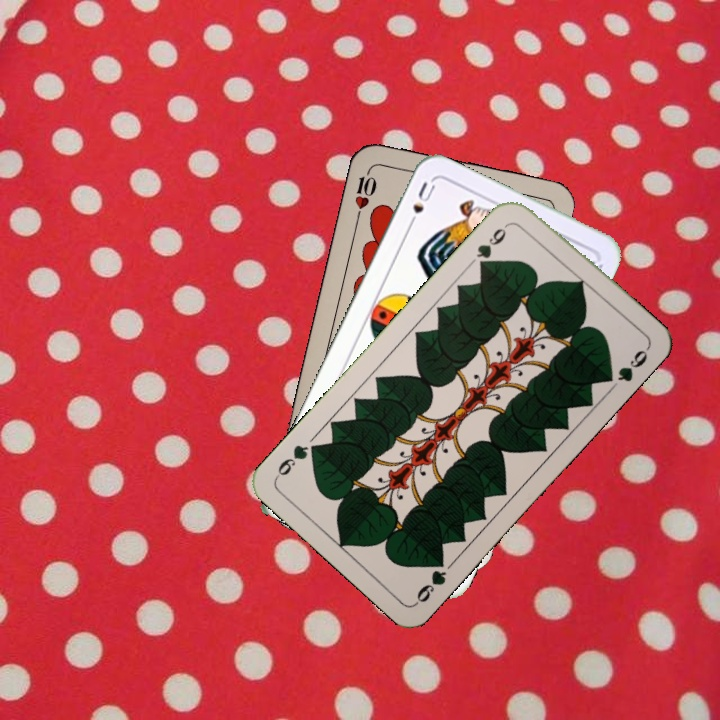G9: (472, 219, 513, 271), (412, 552, 450, 607)
H10: (350, 163, 380, 222)
SU: (403, 178, 438, 233)
